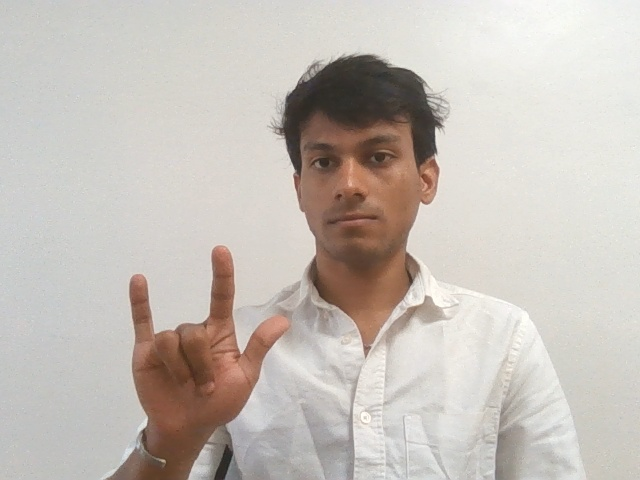ILoveYou: (111, 246, 291, 452)
